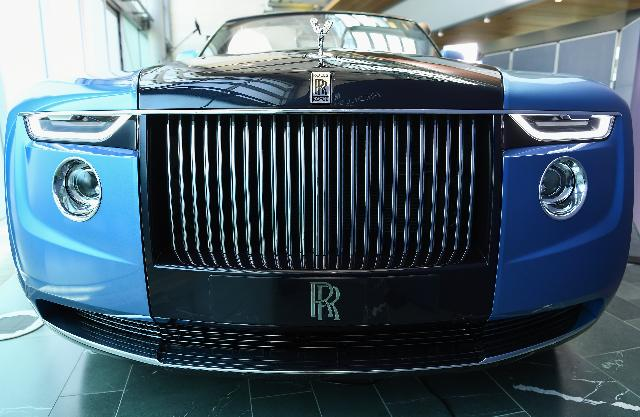rolls-royce: (2, 10, 636, 378)
